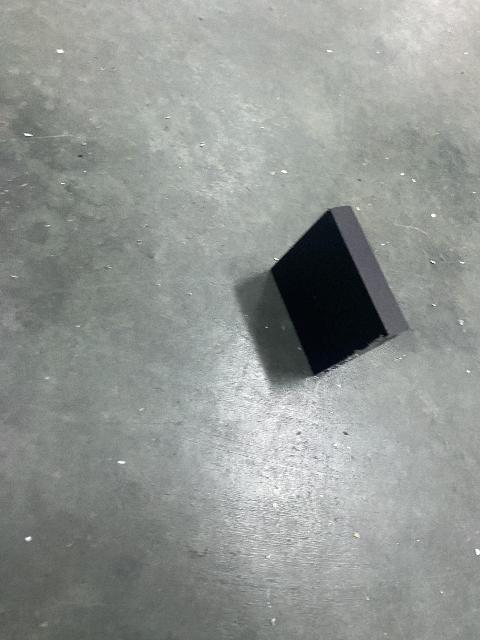Metal: (270, 206, 410, 375)
